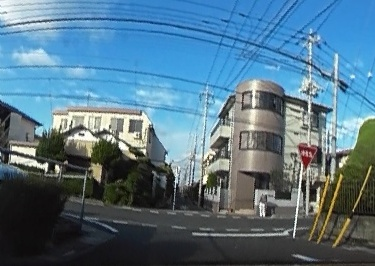person: (257, 190, 267, 216)
